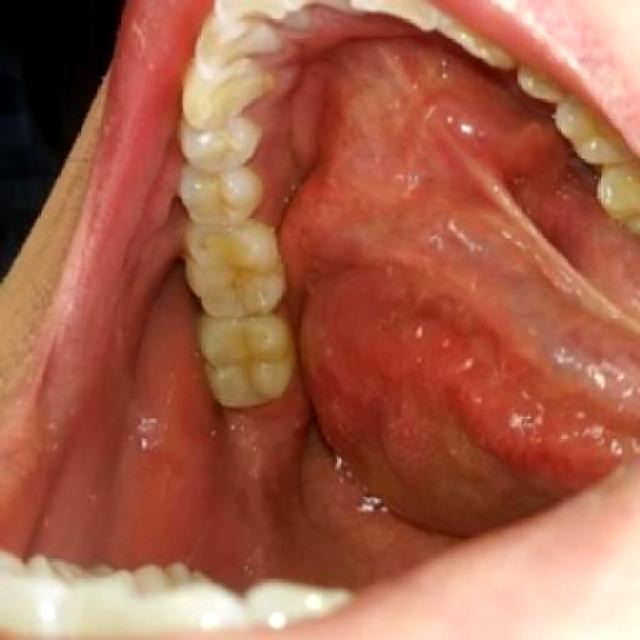Plaque: (188, 239, 216, 262), (230, 271, 242, 299)
